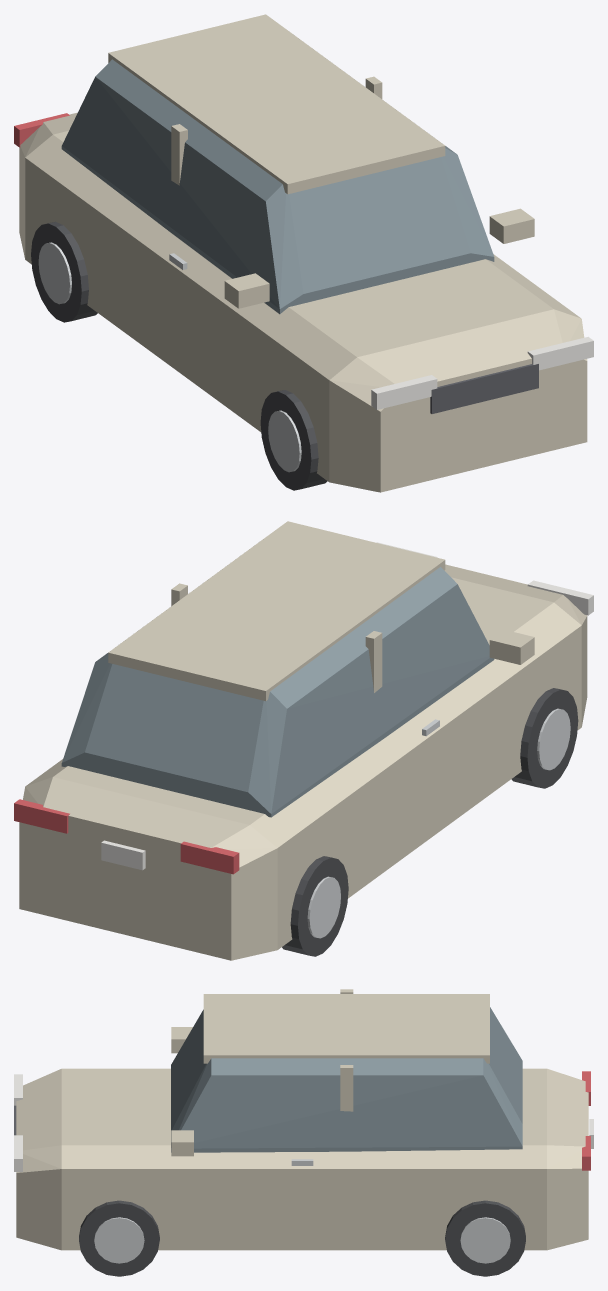
The picture shows the model from 3 angles, top to bottom: view 1: azimuth 30°, elevation 25°; view 2: azimuth 150°, elevation 25°; view 3: azimuth 270°, elevation 25°; orthographic projection. The views are drawn at different scales.
Parts seen in each view (by area): view 1: body, cabin_glass, roof, wheel_-1_1_tire, wheel_-1_-1_tire, grille, wheel_-1_-1_rim, wheel_-1_1_rim, headlight_-1, headlight_1, mirror_-1, mirror_1 (+1 smaller); view 2: body, cabin_glass, roof, wheel_-1_1_tire, wheel_-1_-1_tire, wheel_-1_1_rim, wheel_-1_-1_rim, taillight_-1, mirror_-1, taillight_1, rear_plate, pillar_-1 (+1 smaller); view 3: body, cabin_glass, roof, wheel_1_-1_tire, wheel_1_1_tire, wheel_1_1_rim, wheel_1_-1_rim, pillar_1, mirror_1, mirror_-1.
Boxes of the visible parts, box(x1,y1,x2,y2) form: body: box(19, 112, 587, 492); cabin_glass: box(61, 59, 494, 314); roof: box(108, 14, 445, 194); wheel_-1_1_tire: box(260, 390, 327, 490); wheel_-1_-1_tire: box(31, 221, 97, 322); grille: box(430, 364, 538, 413); wheel_-1_-1_rim: box(38, 242, 71, 304); wheel_-1_1_rim: box(268, 410, 301, 472); headlight_-1: box(371, 375, 437, 409); headlight_1: box(527, 336, 593, 370); mirror_-1: box(224, 273, 269, 308); mirror_1: box(489, 208, 534, 243); body: box(19, 564, 587, 960); cabin_glass: box(61, 567, 494, 817); roof: box(108, 521, 445, 701); wheel_-1_1_tire: box(511, 688, 578, 788); wheel_-1_-1_tire: box(282, 856, 348, 956); wheel_-1_1_rim: box(537, 708, 570, 770); wheel_-1_-1_rim: box(307, 876, 340, 938); taillight_-1: box(180, 841, 239, 874); mirror_-1: box(489, 629, 534, 664); taillight_1: box(14, 799, 69, 833); rear_plate: box(101, 840, 145, 870); pillar_-1: box(365, 631, 382, 692); body: box(16, 1068, 588, 1250); cabin_glass: box(171, 1007, 522, 1152); roof: box(203, 994, 489, 1063); wheel_1_-1_tire: box(445, 1200, 525, 1276); wheel_1_1_tire: box(79, 1200, 159, 1276); wheel_1_1_rim: box(94, 1217, 144, 1263); wheel_1_-1_rim: box(460, 1217, 510, 1263); pillar_1: box(340, 1065, 353, 1111); mirror_1: box(171, 1130, 193, 1156); mirror_-1: box(171, 1027, 192, 1053).
Bounding box in the file's own units: 2.29 × 1.85 × 4.87.
